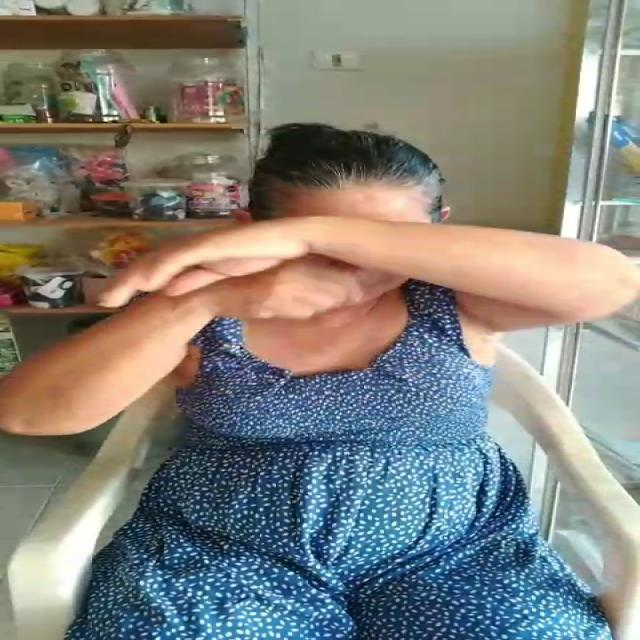7_mano_rostro: (220, 217, 547, 316)
